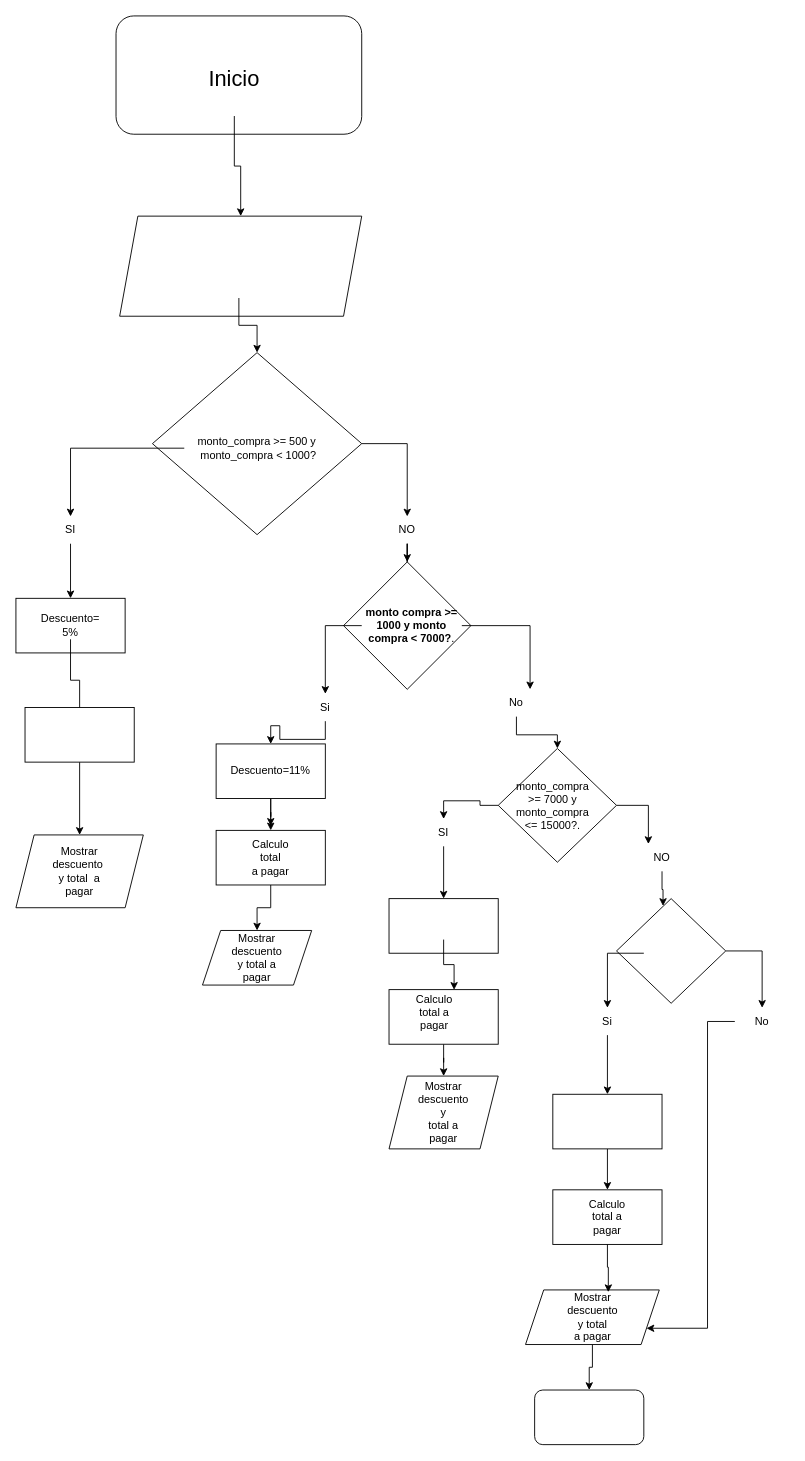
The diagram is 805 pixels wide and 1461 high, and some of its shapes have lost their labels. The centre of each missing label's shape, as x and y in pixels:
"Calcular total a pagar" belongs at (x=79, y=734).
"Descuento=18%" belongs at (x=443, y=925).
"Descuento=25%" belongs at (x=607, y=1121).
"Fin" belongs at (x=589, y=1417).
"Leer monto compra" belongs at (x=240, y=265).
"monto_compra > 15000" belongs at (x=671, y=950).
